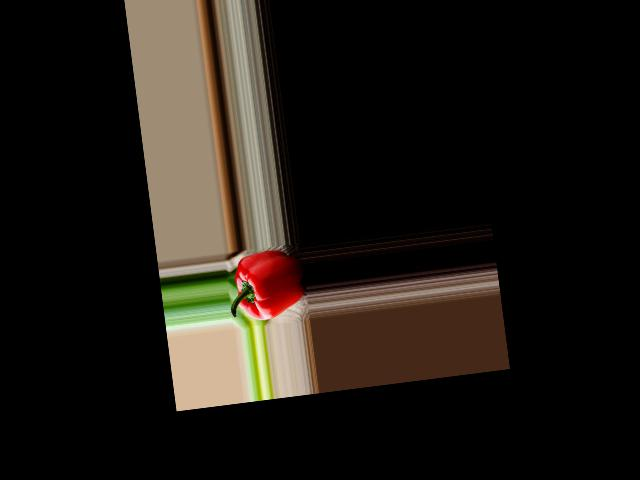bell_pepper: (226, 248, 310, 325)
